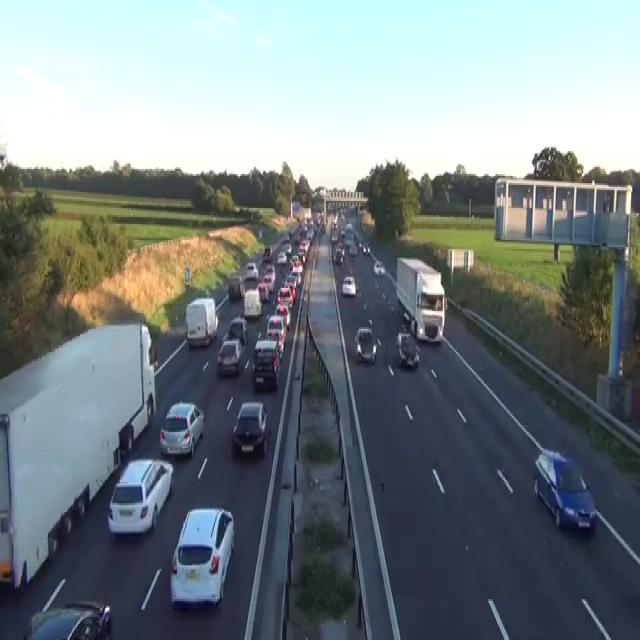Car: (169, 506, 235, 610), (533, 448, 596, 535), (107, 457, 174, 535), (22, 599, 111, 638), (159, 400, 204, 457), (232, 400, 269, 457), (252, 338, 280, 389), (216, 338, 242, 375), (396, 331, 419, 368), (354, 325, 376, 363), (266, 314, 286, 348), (264, 329, 284, 361), (243, 288, 262, 320), (228, 316, 248, 345), (276, 284, 294, 308), (275, 304, 291, 329), (263, 263, 275, 292), (228, 276, 242, 300), (341, 275, 356, 297), (289, 254, 302, 274), (285, 279, 296, 302), (257, 281, 269, 302), (241, 276, 254, 295), (245, 261, 258, 279), (333, 244, 345, 263), (150, 345, 158, 371), (373, 260, 385, 276), (358, 240, 370, 254), (262, 246, 272, 262), (401, 311, 410, 327), (348, 242, 357, 256), (276, 251, 286, 263), (331, 231, 338, 242), (345, 222, 353, 231), (285, 244, 291, 254), (358, 240, 364, 249), (258, 228, 262, 238)
Truck: (0, 320, 157, 594), (395, 256, 446, 343), (185, 297, 218, 347)
